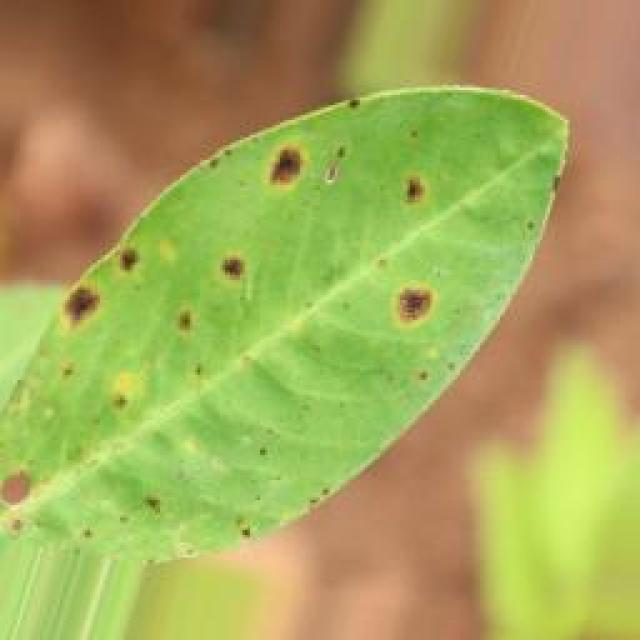Early_leaf_spot: (125, 471, 328, 602), (12, 208, 148, 332), (220, 96, 358, 216), (351, 228, 462, 369), (158, 184, 262, 320), (0, 414, 72, 527), (354, 137, 436, 232), (89, 364, 165, 418)
